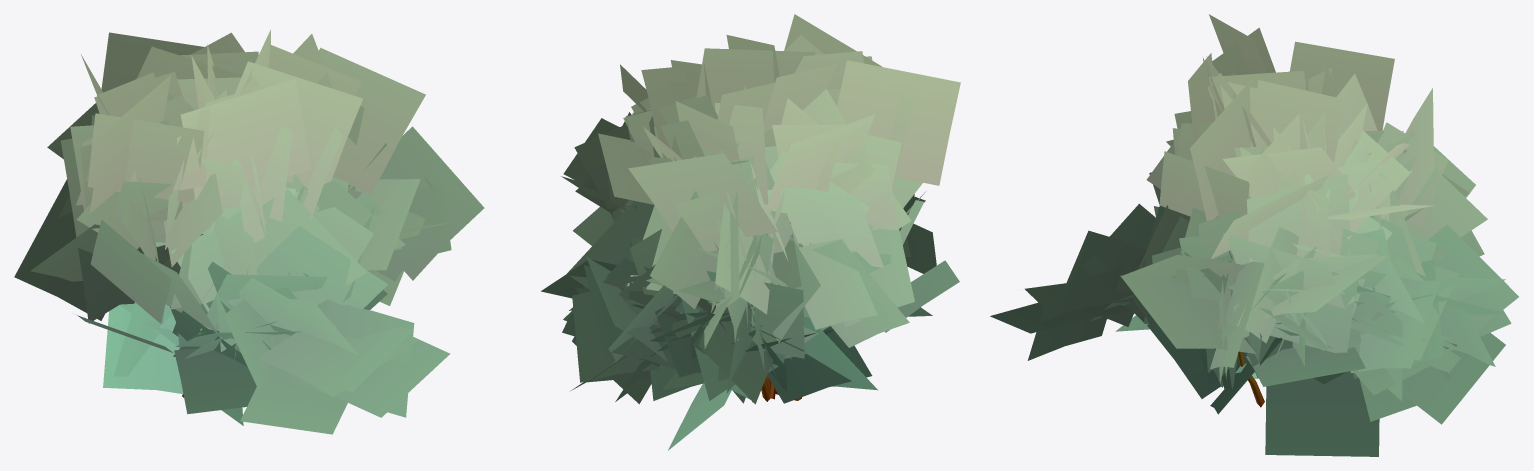
Rendered from bush_oak.glb.
The picture shows the model from 3 angles, left to right: view 1: azimuth 30°, elevation 25°; view 2: azimuth 150°, elevation 25°; view 3: azimuth 270°, elevation 25°; orthographic projection. The views are drawn at different scales.
Visible parts, largest first — view 1: LOD0; view 2: LOD0; view 3: LOD0.
Part boxes in pixels (x1=…): LOD0: x1=14, y1=29, x2=484, y2=434; LOD0: x1=541, y1=14, x2=960, y2=450; LOD0: x1=990, y1=14, x2=1518, y2=456.
Size of what is drawn, in the model's own units: 2.72 by 2.47 by 3.19.
